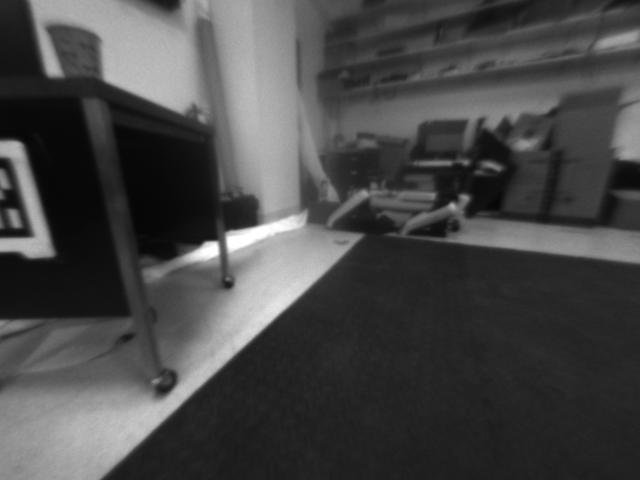coffee_cup: (41, 20, 107, 80)
